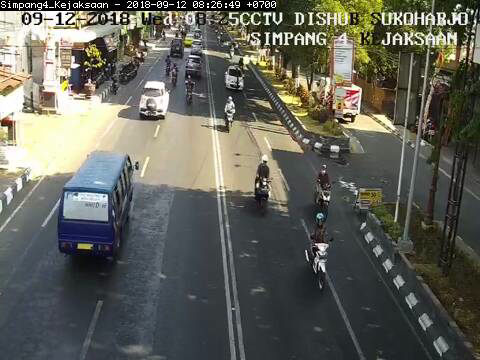motor: (305, 210, 334, 291), (251, 153, 274, 217), (313, 162, 334, 219), (224, 95, 236, 134)
